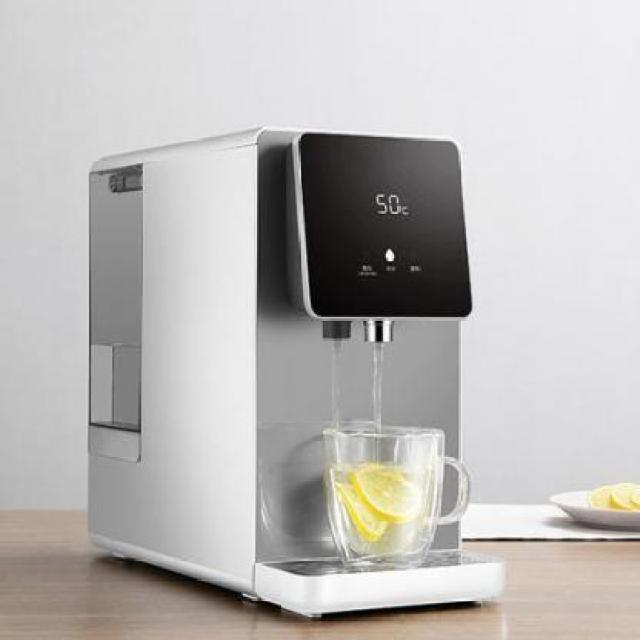cooler: (88, 126, 506, 623)
